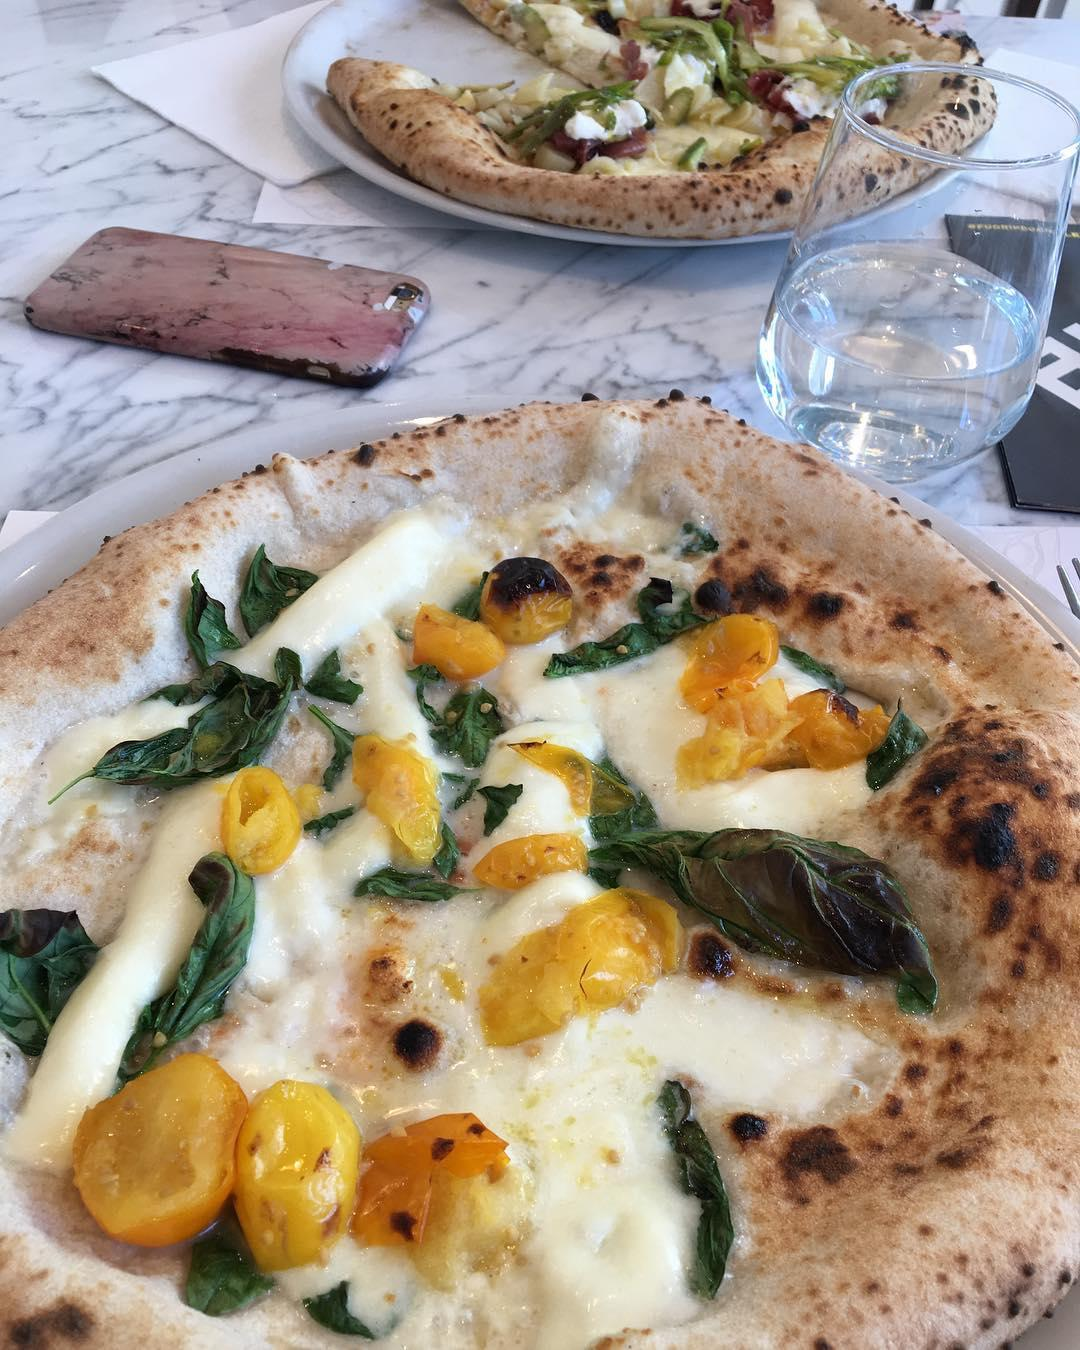Basil: (615, 812, 916, 979), (128, 871, 255, 1054), (101, 677, 289, 788), (0, 895, 107, 1061), (663, 1069, 735, 1293), (182, 557, 312, 671)
Cheese: (516, 1089, 663, 1315), (276, 916, 444, 1047), (679, 998, 901, 1091), (531, 671, 681, 743), (569, 108, 642, 138), (789, 77, 833, 114), (672, 58, 703, 86)
Ham: (551, 138, 651, 159), (732, 0, 775, 36), (750, 68, 788, 108)
Peppers: (62, 1104, 500, 1255), (690, 626, 876, 770), (494, 903, 660, 1041), (400, 553, 572, 673), (350, 732, 449, 861), (212, 762, 299, 871), (505, 743, 604, 816), (480, 833, 580, 890)
Pizza: (0, 415, 1080, 1350), (330, 0, 1009, 245)
